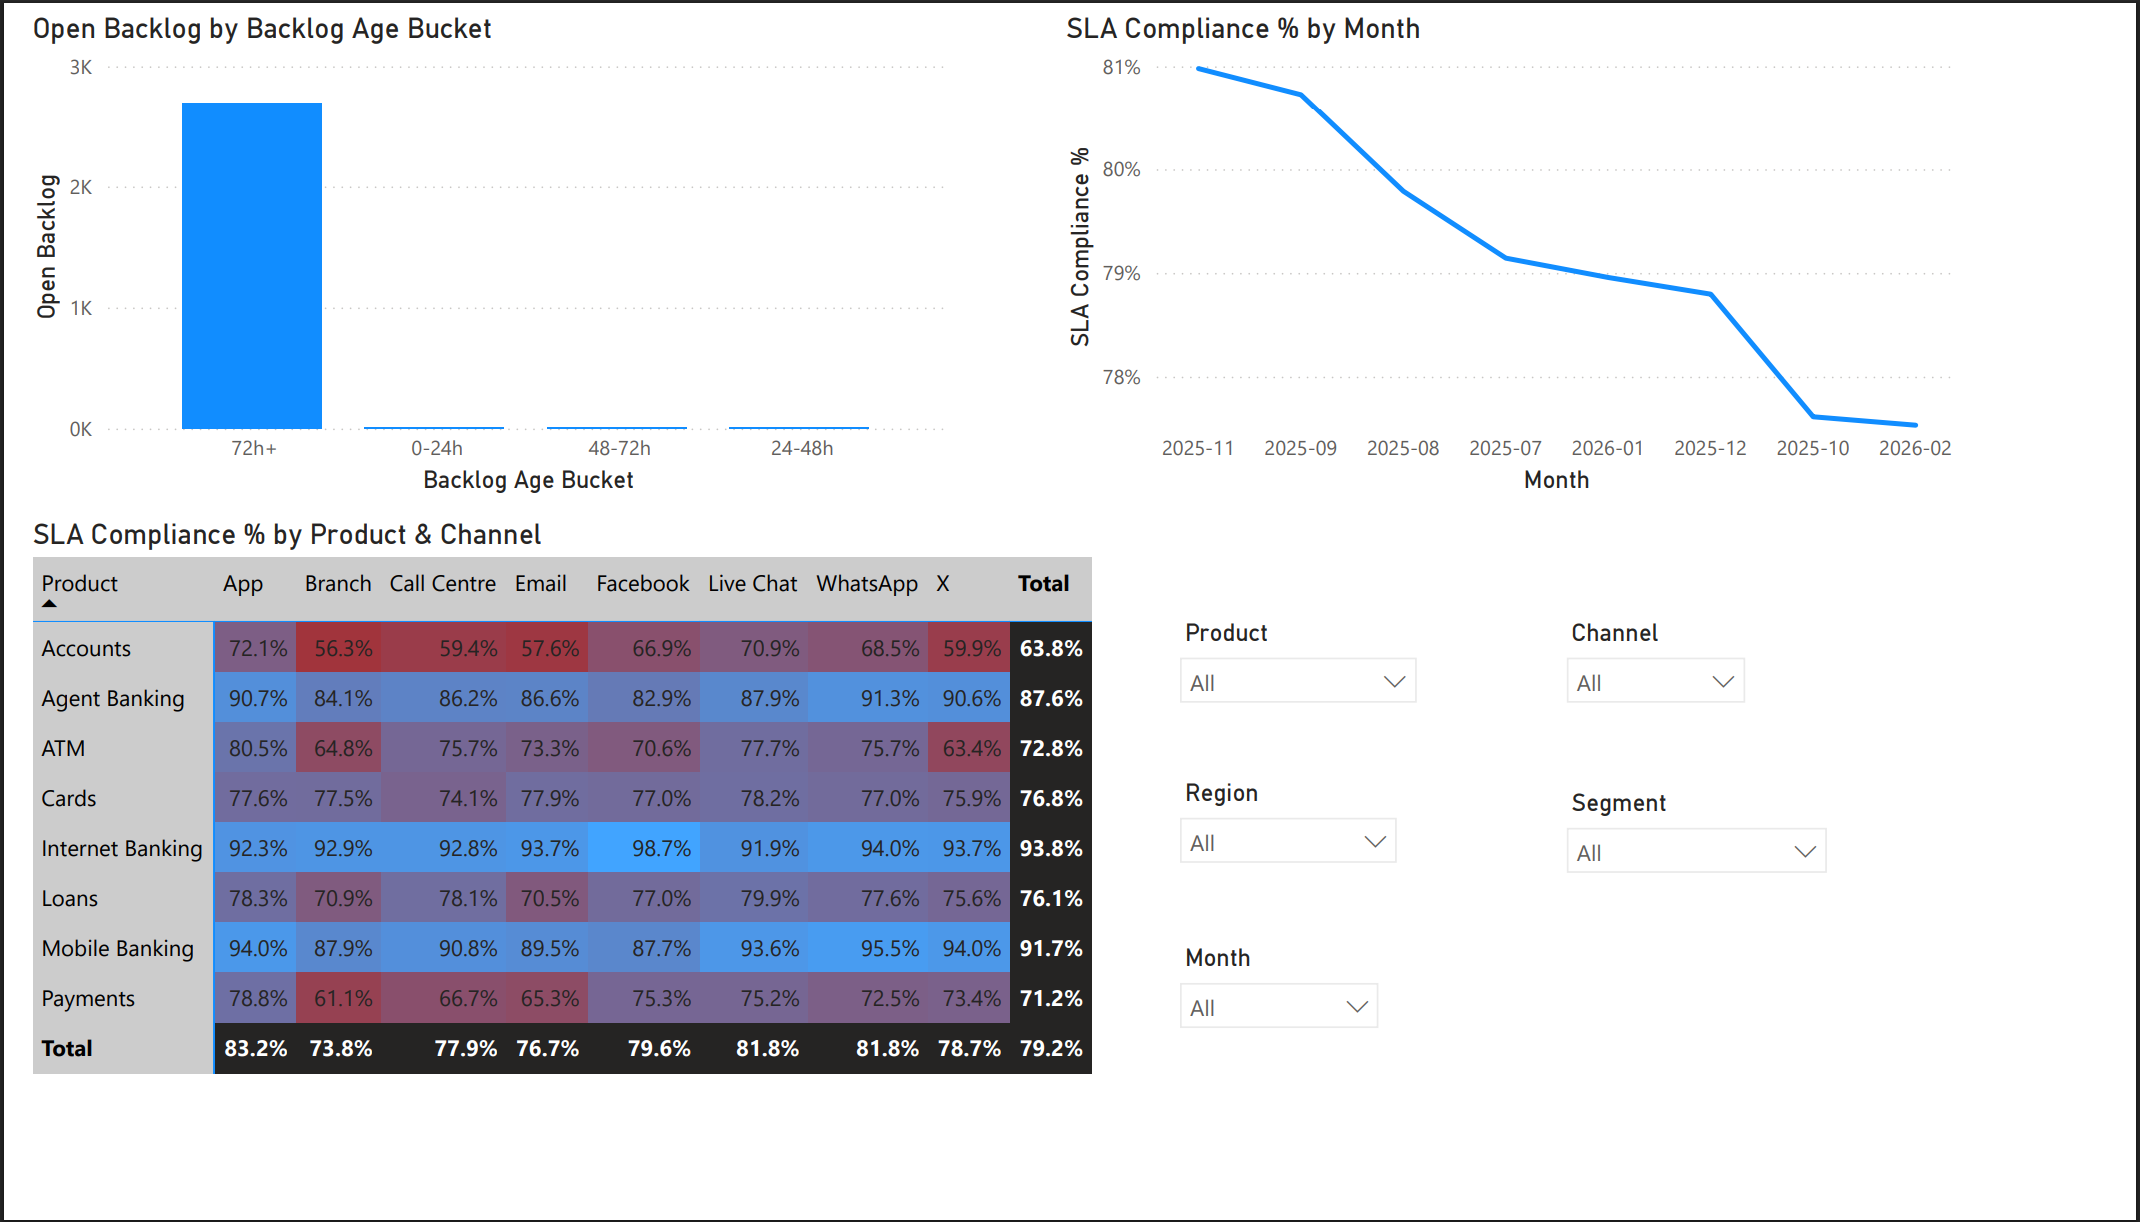

What the dashboard file says about the page in this screenshot:
{"tool":"powerbi","page":{"name":"SLA & Backlog Control","canvas":[1280,720],"ordinal":1},"visuals":[{"type":"columnChart","fields":{"Category":["Fact_Complaints.Backlog Age Bucket"],"Y":["Fact_Complaints.Open Backlog"]},"box":[13.3,0,559.2,294.2],"z":0},{"type":"pivotTable","title":"SLA Compliance % by Product & Channel","fields":{"Rows":["Fact_Complaints.Product"],"Columns":["Fact_Complaints.Channel"],"Values":["Fact_Complaints.SLA Compliance %"]},"box":[13.3,304.2,655.8,354.2],"z":1000},{"type":"lineChart","fields":{"Category":["Dim_Date.Month"],"Y":["Fact_Complaints.SLA Compliance %"]},"box":[633.3,0,545.8,294.2],"z":2000},{"type":"slicer","fields":{"Values":["Fact_Complaints.Product"]},"box":[695.8,360,161.7,101.7],"z":3000},{"type":"slicer","fields":{"Values":["Fact_Complaints.Channel"]},"box":[928.3,360,126.7,69.2],"z":4000},{"type":"slicer","fields":{"Values":["Fact_Complaints.Region"]},"box":[695.8,455.8,150,85.8],"z":5000},{"type":"slicer","fields":{"Values":["Fact_Complaints.CustomerSegment"]},"box":[928.3,461.7,175.8,112.5],"z":6000},{"type":"slicer","fields":{"Values":["Dim_Date.Month"]},"box":[695.8,555,139.2,78.3],"z":7000}]}

Visuals, with their boxes in screenshot pixels (x1, y1, x2, y2), scaled from the page's 1280x720 canvas onto the 2140x1222 screenshot:
columnChart - Fact_Complaints.Backlog Age Bucket x Fact_Complaints.Open Backlog: bbox=(22, 0, 957, 499)
"SLA Compliance % by Product & Channel" pivotTable: bbox=(22, 516, 1119, 1117)
lineChart - Dim_Date.Month x Fact_Complaints.SLA Compliance %: bbox=(1059, 0, 1971, 499)
slicer - Fact_Complaints.Product: bbox=(1163, 611, 1434, 784)
slicer - Fact_Complaints.Channel: bbox=(1552, 611, 1764, 728)
slicer - Fact_Complaints.Region: bbox=(1163, 774, 1414, 919)
slicer - Fact_Complaints.CustomerSegment: bbox=(1552, 784, 1846, 975)
slicer - Dim_Date.Month: bbox=(1163, 942, 1396, 1075)
